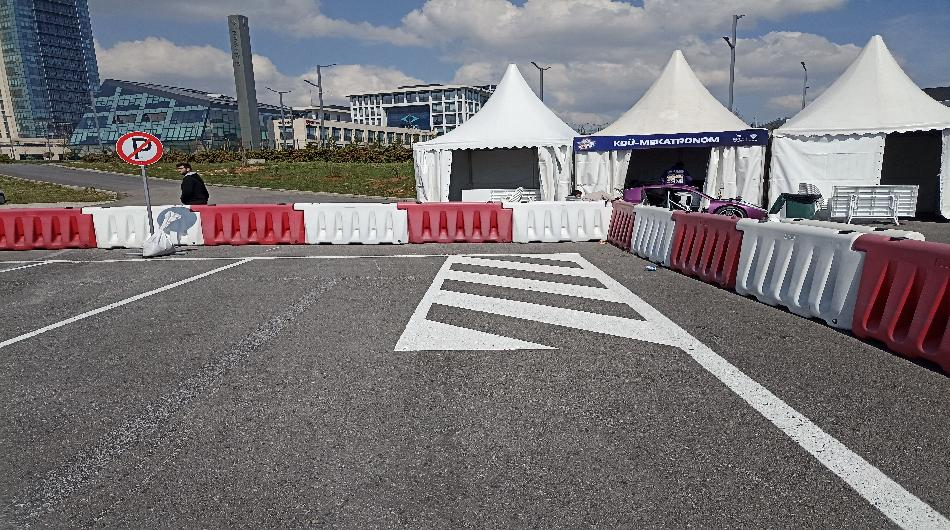park_yapilmaz_3: (117, 128, 164, 166)
park_yapilmaz_yerde: (393, 245, 705, 352)
